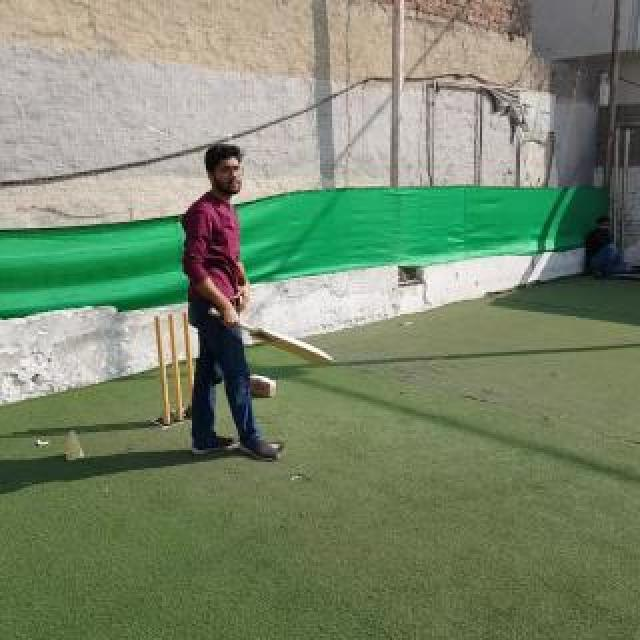bat: (208, 306, 332, 368)
